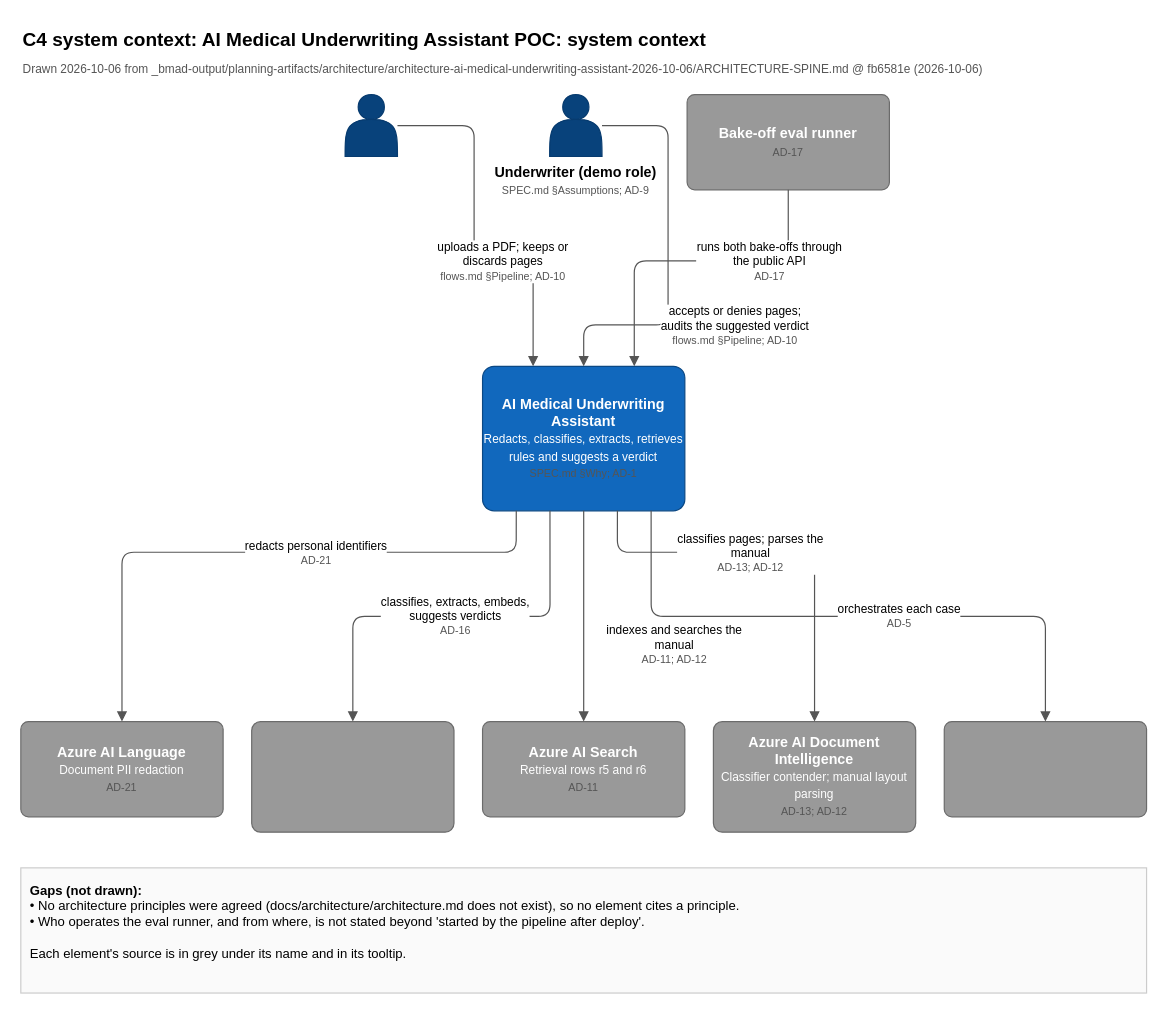
This 1167x1014 diagram has some shape labels left out. Here are the shapes that lost their labels. From the top down, the box of each, then its label:
(344, 93, 397, 156): Customer (demo role) SPEC.md §Assumptions; AD-9
(250, 720, 454, 832): Microsoft Foundry models One chat and one embedding deployment AD-16
(943, 720, 1147, 817): Azure Durable Task Scheduler Runs the case lifecycle AD-5
